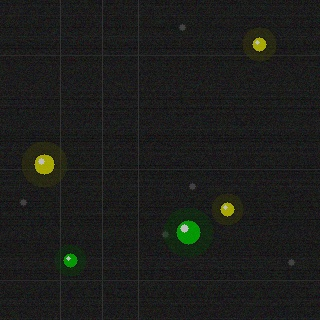green_normal: (174, 218, 202, 246), (61, 251, 79, 269)
yellow_warning: (32, 152, 56, 176), (250, 35, 268, 53), (218, 200, 236, 218)
